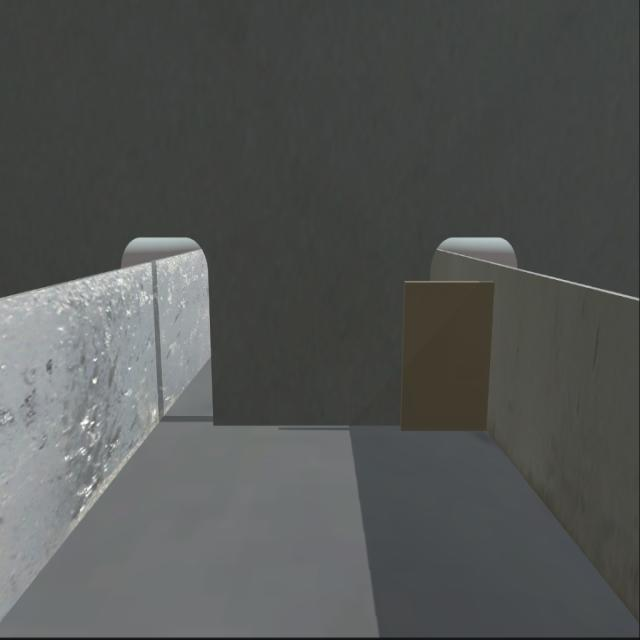fillet_yong_jeop_jang: (207, 408, 491, 438)
longi_yong_jeop_jang: (476, 276, 502, 438)
plate_CP01: (401, 280, 495, 428)
